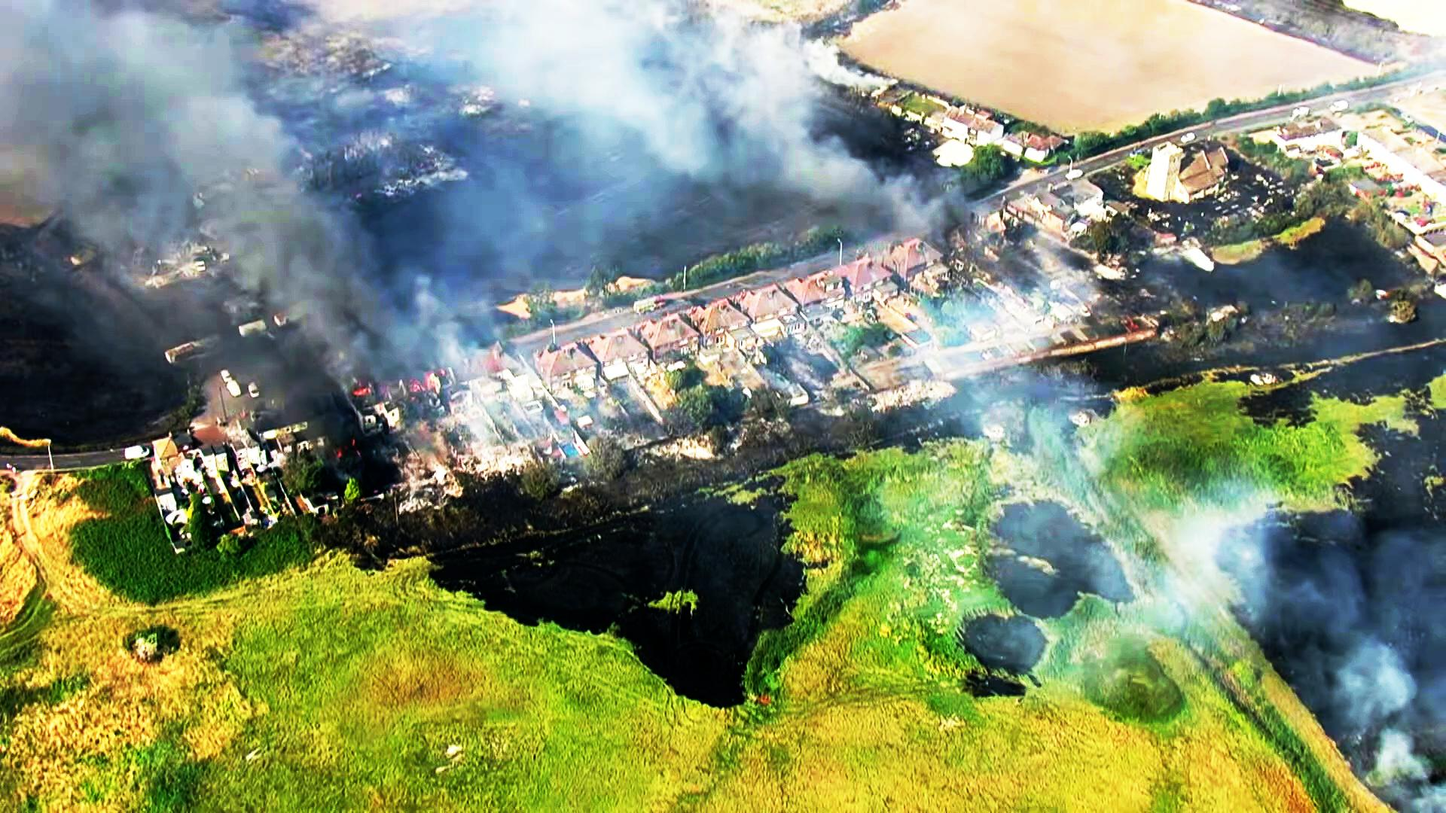smoke: (356, 0, 797, 151), (79, 166, 373, 367), (0, 0, 185, 234)
